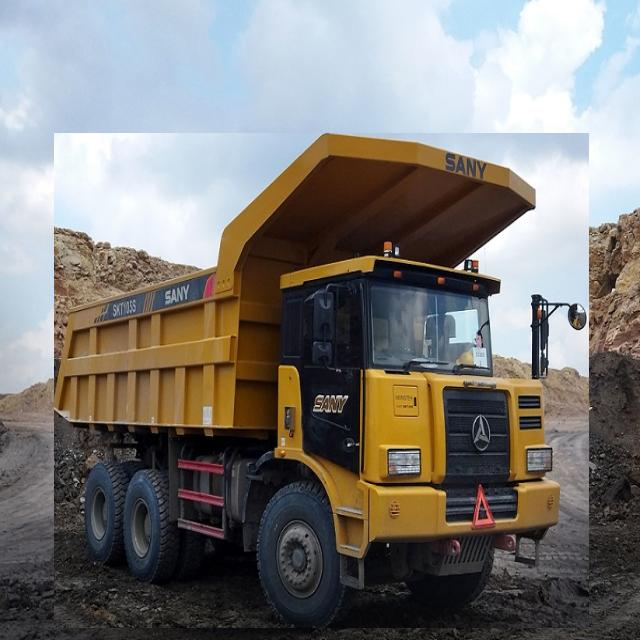truck: (54, 134, 589, 628)
